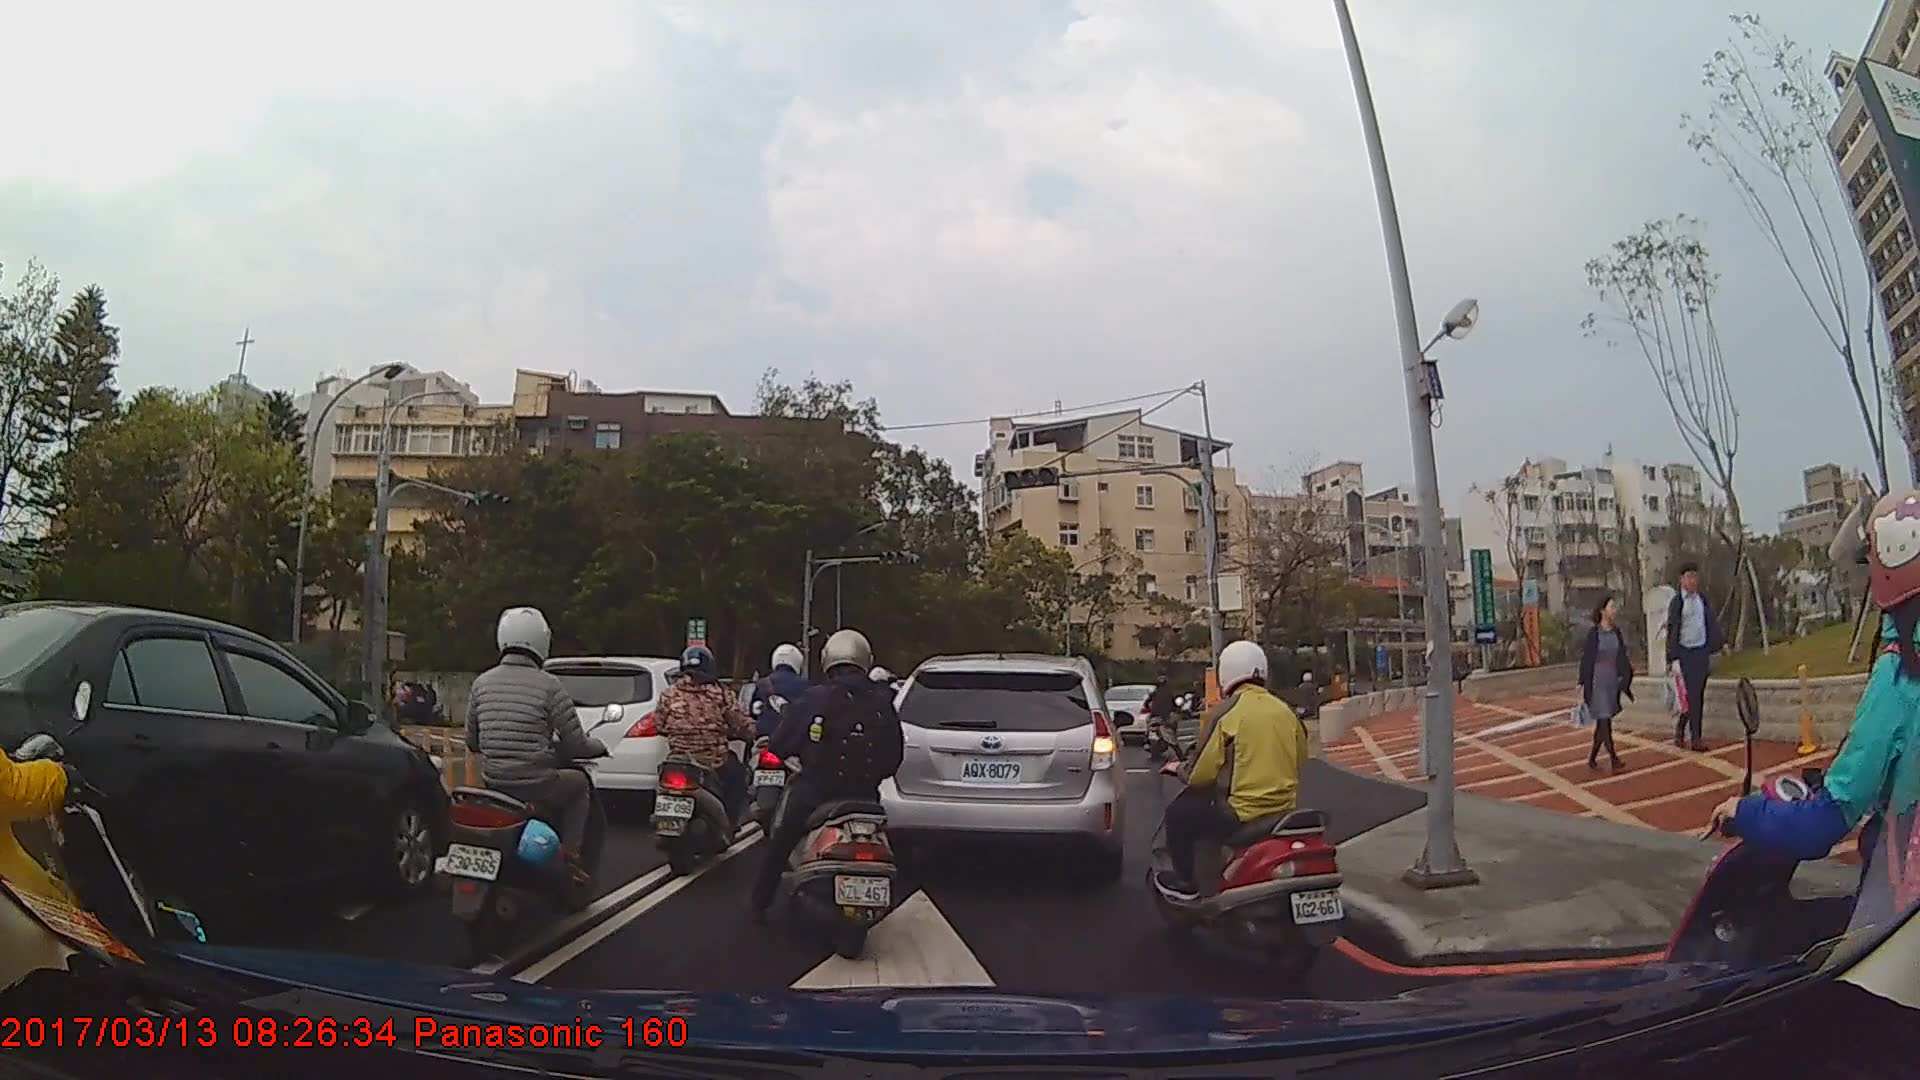pedestrian: (1565, 596, 1635, 774), (1661, 565, 1724, 753)
rider: (1661, 487, 1920, 1080), (1144, 641, 1348, 981), (439, 606, 614, 954), (761, 629, 908, 960), (648, 646, 757, 875), (742, 637, 830, 842), (1140, 673, 1175, 760)
vehicle: (0, 599, 453, 952), (870, 653, 1126, 875), (515, 655, 759, 819), (359, 680, 432, 726)
